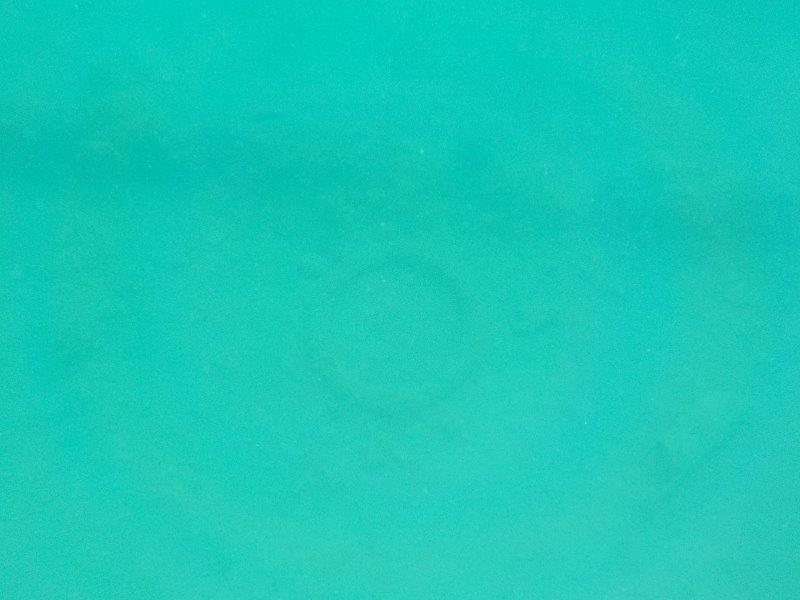tire: (295, 233, 496, 417)
